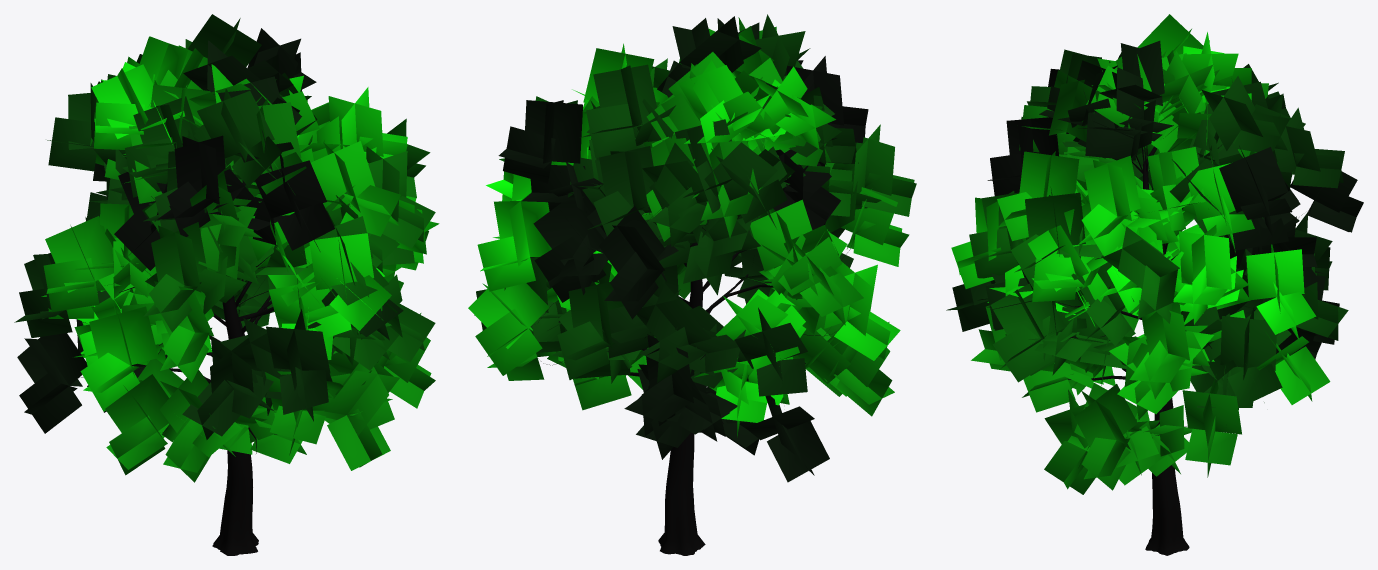
File: Type_1_2.fbx
The picture shows the model from 3 angles, left to right: view 1: azimuth 30°, elevation 25°; view 2: azimuth 150°, elevation 25°; view 3: azimuth 270°, elevation 25°; orthographic projection. The views are drawn at different scales.
Visible parts, largest first — view 1: Type_1_2; view 2: Type_1_2; view 3: Type_1_2.
Part boxes in pixels (<box>): Type_1_2: <box>14,14,439,555</box>; Type_1_2: <box>468,14,916,555</box>; Type_1_2: <box>946,14,1363,555</box>.
Size of the model in its own units: 364 by 483 by 374.
